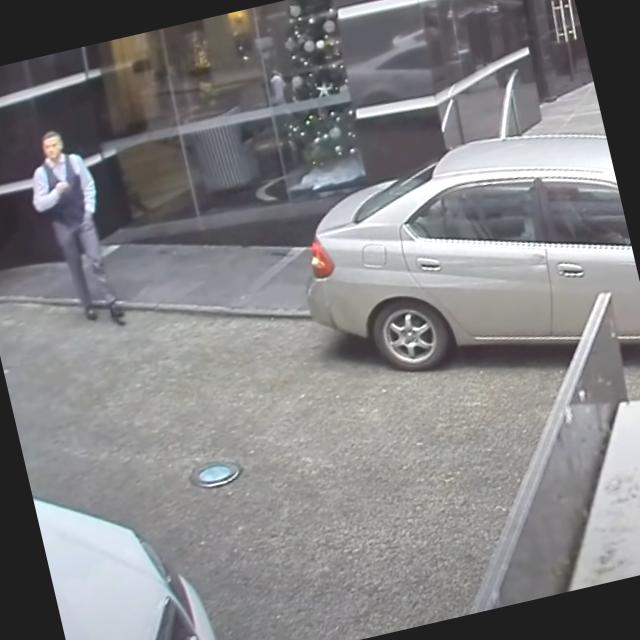person: (17, 123, 127, 334)
